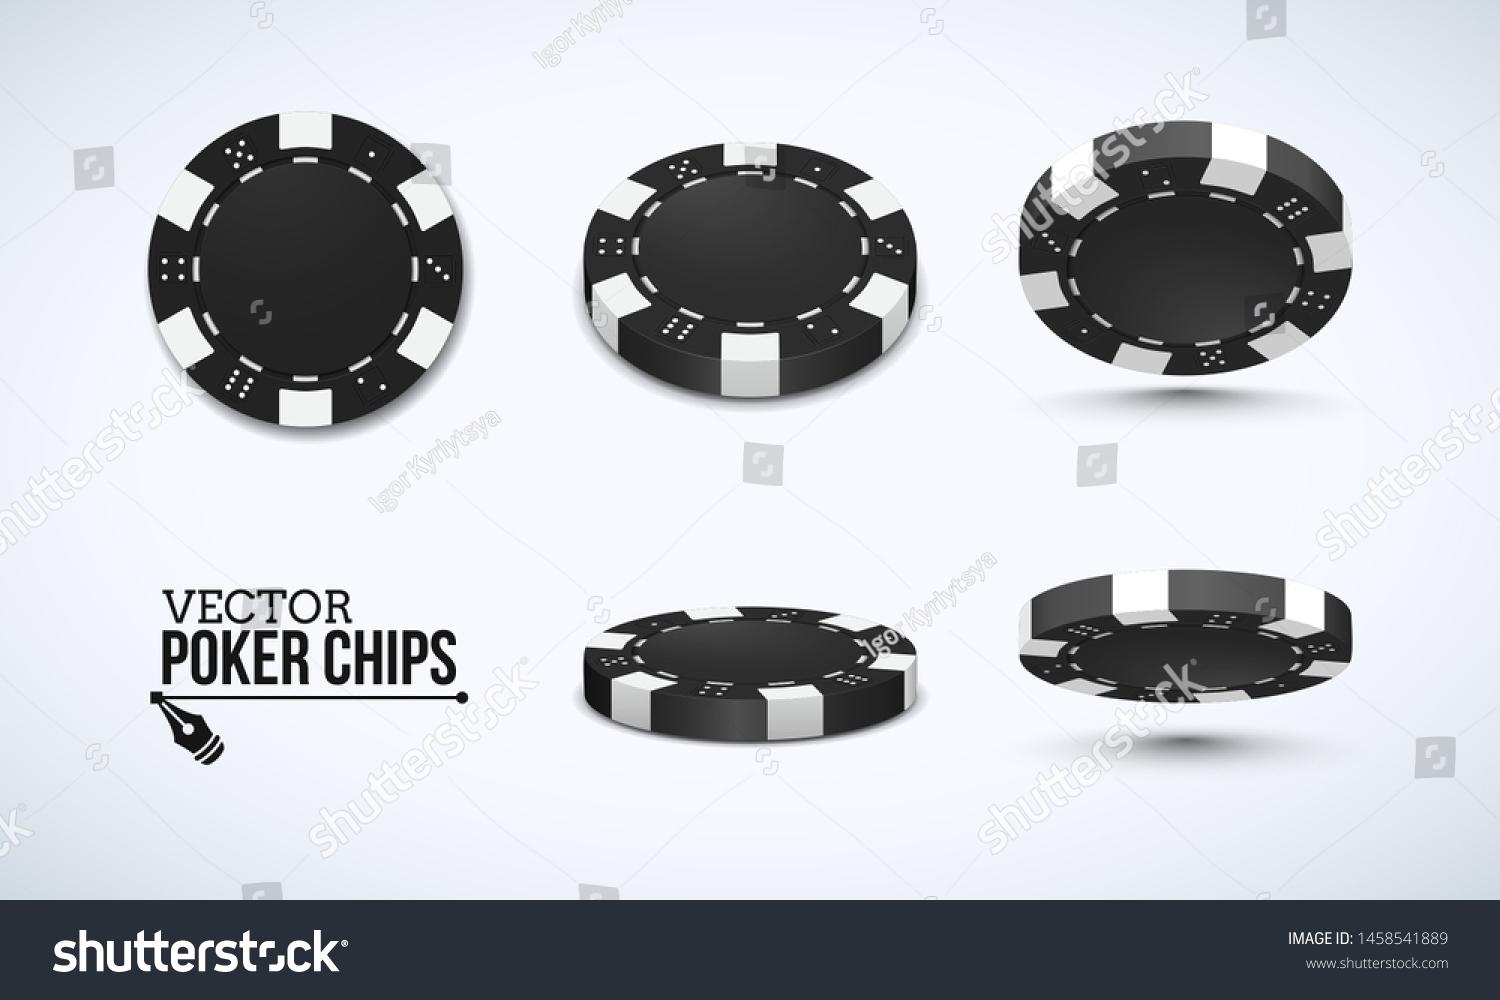chip-black: (146, 112, 465, 427), (1020, 121, 1354, 374), (583, 144, 917, 395), (583, 606, 917, 741), (1020, 571, 1354, 703)
